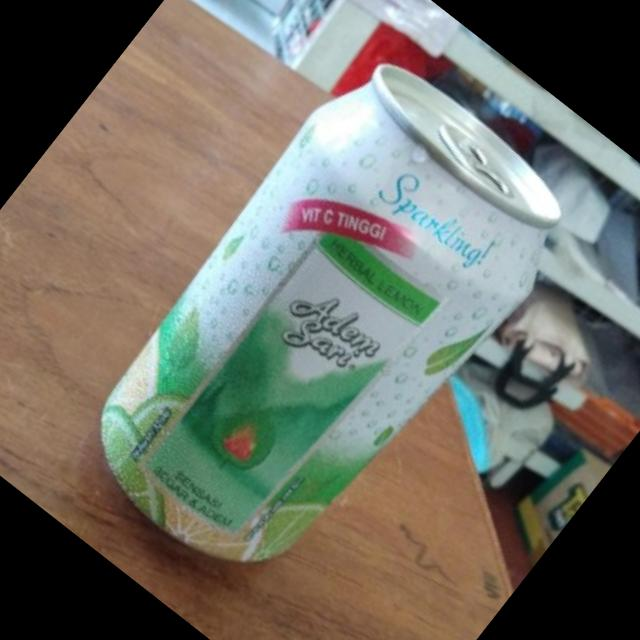ademsarikaleng: (49, 32, 598, 620)
